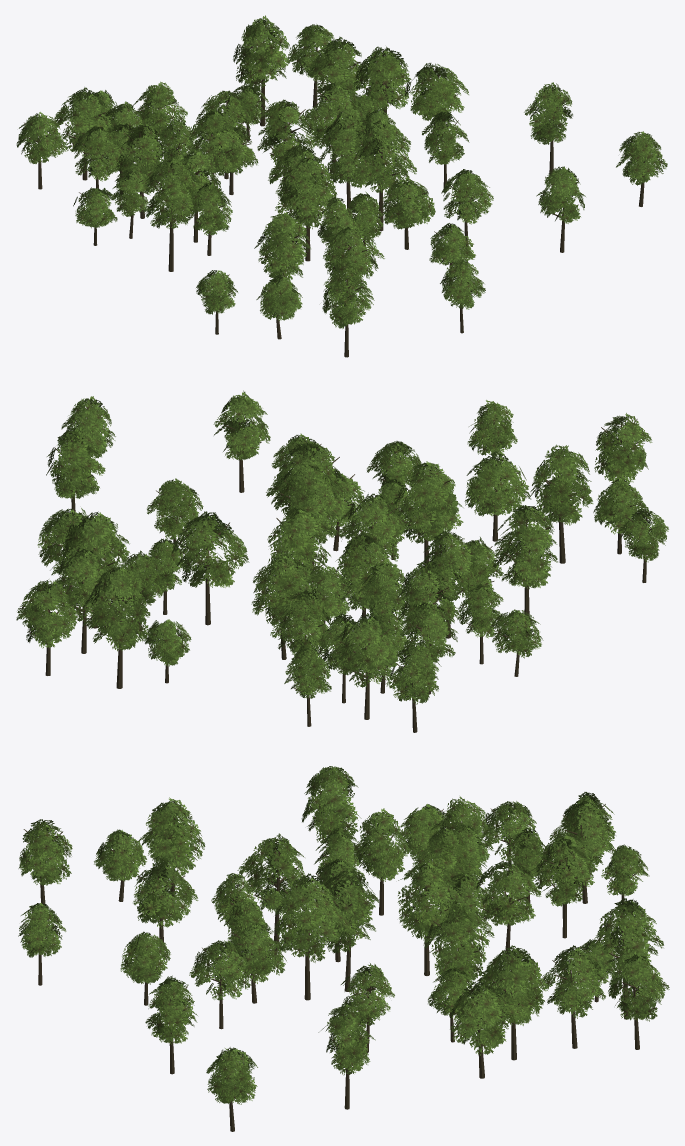
Rendered from TRB8-FOREST-CHUNK-7-6.glb.
3 renders of one model, top to bottom at view 1: azimuth 30°, elevation 25°; view 2: azimuth 150°, elevation 25°; view 3: azimuth 270°, elevation 25°, orthographic. The views are drawn at different scales.
Visible parts, largest first — view 1: TRB8-FOREST-CHUNK-7-6; view 2: TRB8-FOREST-CHUNK-7-6; view 3: TRB8-FOREST-CHUNK-7-6.
Boxes of the visible parts, x1,y1,x2,y2 form: TRB8-FOREST-CHUNK-7-6: (16,15,667,357); TRB8-FOREST-CHUNK-7-6: (16,390,668,732); TRB8-FOREST-CHUNK-7-6: (18,766,669,1131).
Size of the model in its own units: 29.35 by 6.69 by 29.6.
Materials: 2 (1 with a texture image).
